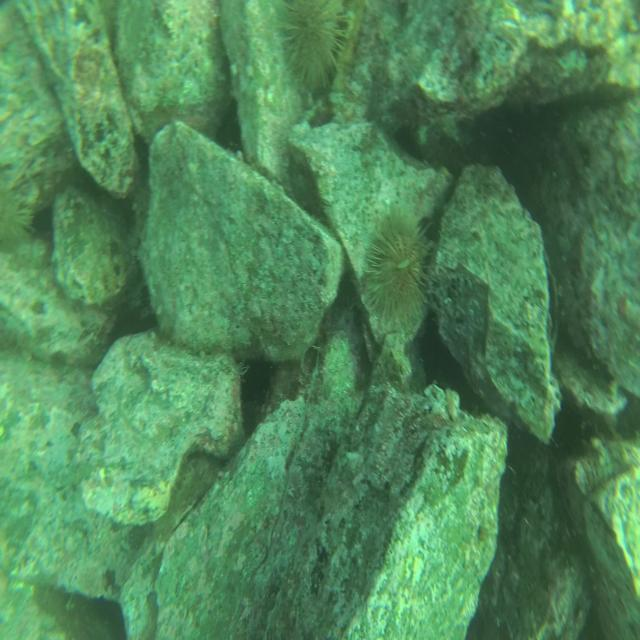echinus: (367, 210, 429, 328), (281, 1, 345, 93), (1, 186, 32, 257)
